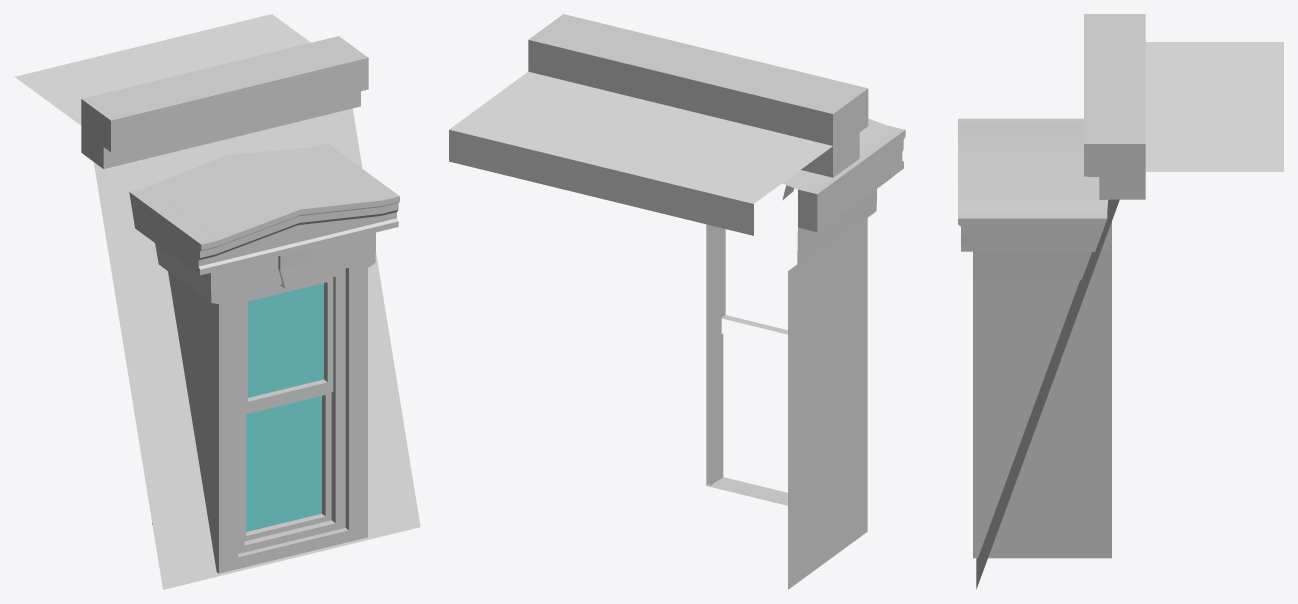
File: Roof_SlateCornice_Window_1.gltf
The picture shows the model from 3 angles, left to right: view 1: azimuth 30°, elevation 25°; view 2: azimuth 150°, elevation 25°; view 3: azimuth 270°, elevation 25°; orthographic projection. The views are drawn at different scales.
Parts seen in each view (by area): view 1: Roof_SlateCornice_Window_1; view 2: Roof_SlateCornice_Window_1; view 3: Roof_SlateCornice_Window_1.
Part boxes in pixels (x1,y1,x2,y2): Roof_SlateCornice_Window_1: (14, 14, 420, 589); Roof_SlateCornice_Window_1: (449, 14, 905, 589); Roof_SlateCornice_Window_1: (958, 14, 1283, 589).
Size of the model in its own units: 2 by 3.2 by 2.12.
